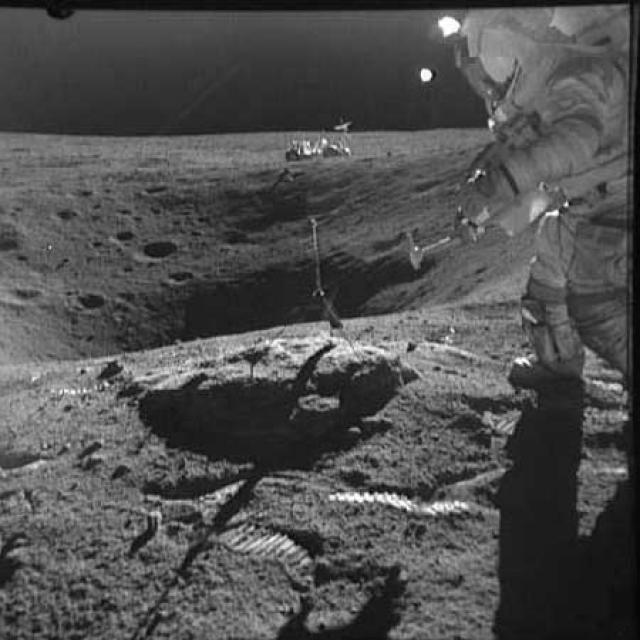crater: (0, 285, 45, 313), (68, 288, 112, 316), (404, 167, 446, 196), (132, 240, 180, 264), (106, 224, 141, 250), (217, 228, 256, 251), (136, 181, 181, 197), (64, 184, 98, 203), (2, 247, 32, 268), (51, 206, 78, 226), (163, 267, 196, 282), (110, 202, 134, 222), (192, 208, 218, 226), (82, 238, 110, 252), (112, 262, 137, 277), (165, 215, 188, 228), (149, 202, 166, 217), (87, 214, 103, 224), (128, 215, 144, 225), (92, 203, 106, 212)
rock: (140, 326, 409, 449), (83, 433, 111, 470), (100, 353, 131, 372), (118, 454, 142, 474)
